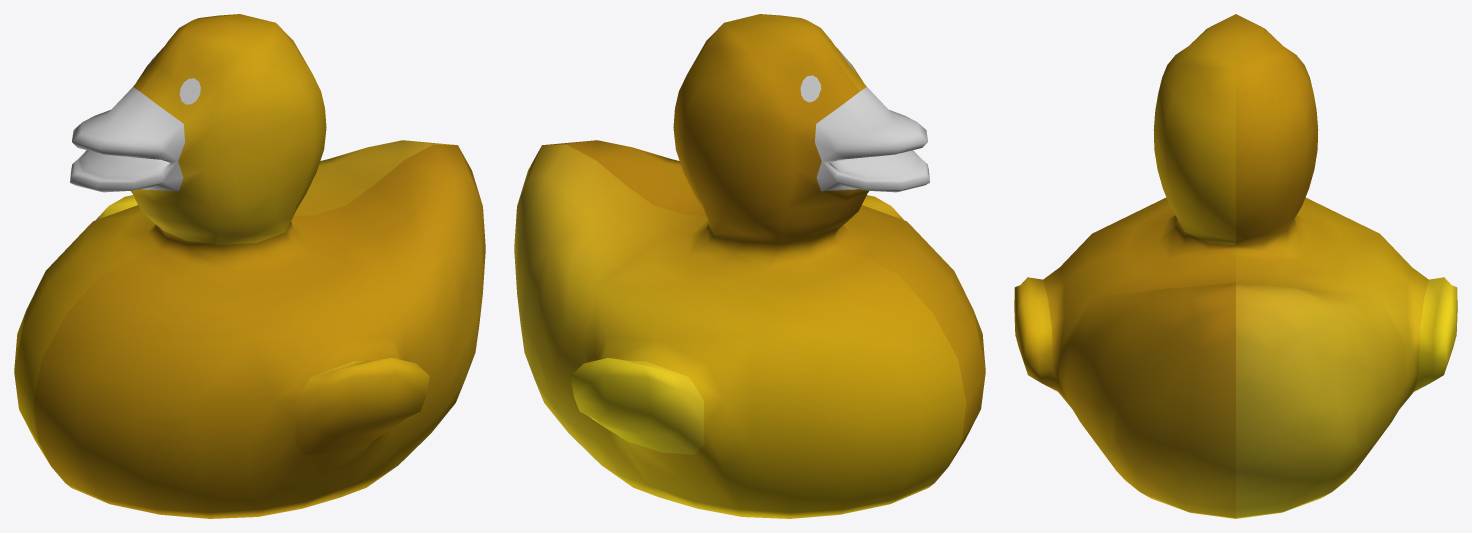
Rendered from duck.obj.
3 views of the same model, side by side, from view 1: azimuth 30°, elevation 25°; view 2: azimuth 150°, elevation 25°; view 3: azimuth 270°, elevation 25° (orthographic). The views are drawn at different scales.
Parts seen in each view (by area): view 1: Cube_001_Cube_002, b1; view 2: Cube_001_Cube_002, b1; view 3: Cube_001_Cube_002.
Part boxes in pixels (<box>): Cube_001_Cube_002: <box>14,14,485,518</box>; b1: <box>70,87,184,192</box>; Cube_001_Cube_002: <box>514,14,985,518</box>; b1: <box>815,87,929,192</box>; Cube_001_Cube_002: <box>1014,14,1457,518</box>.
Bounding box in the file's own units: 1.12 × 1.09 × 1.05.
